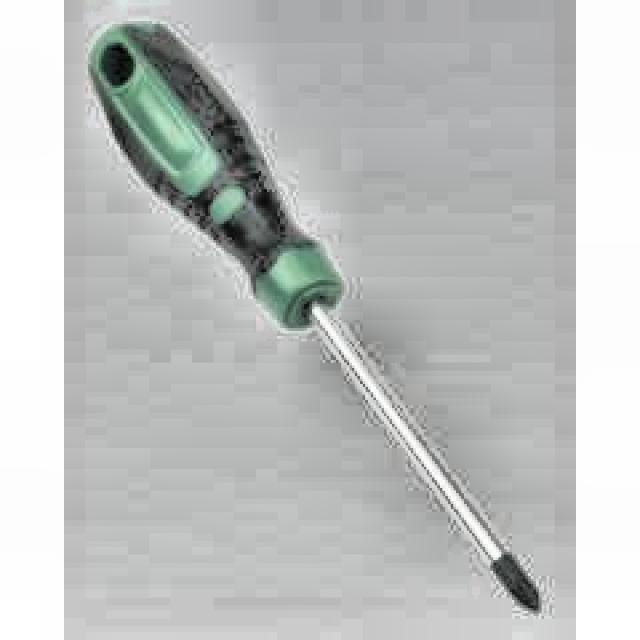screwdriver: (88, 21, 541, 612)
